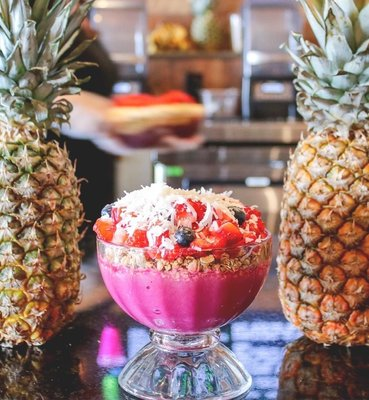soup: (0, 0, 111, 381), (94, 183, 274, 400), (0, 19, 87, 390)
